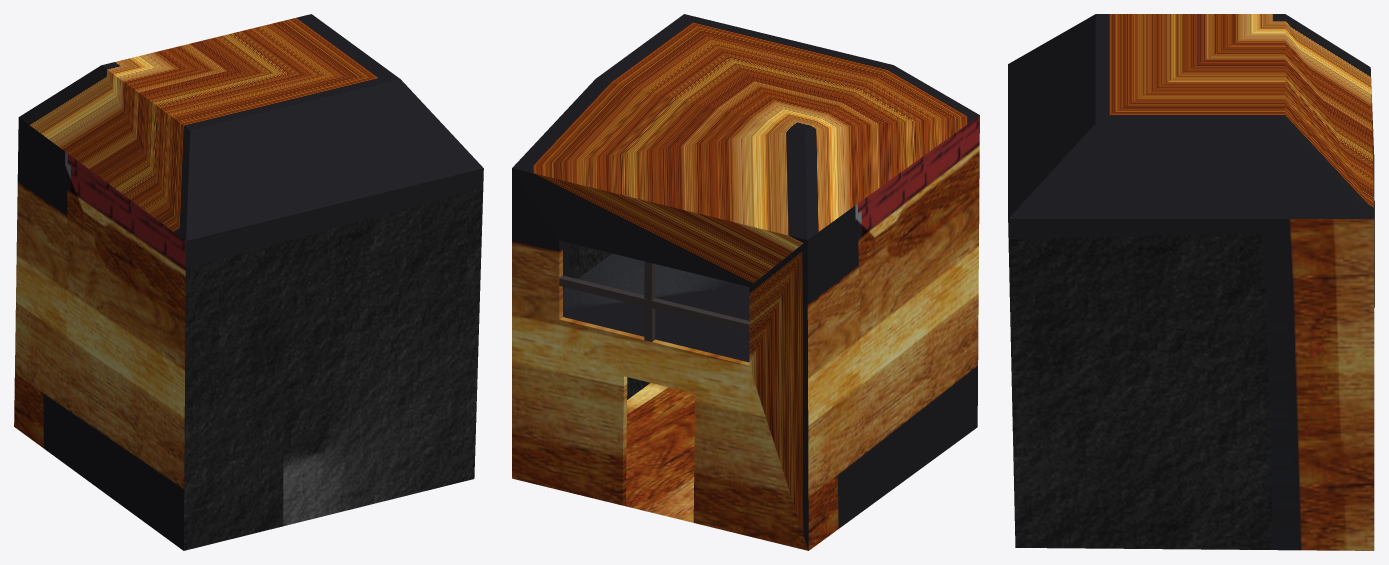
Rendered from model_intro_miskHouse1.fbx.
The picture shows the model from 3 angles, left to right: view 1: azimuth 30°, elevation 25°; view 2: azimuth 150°, elevation 25°; view 3: azimuth 270°, elevation 25°; orthographic projection. The views are drawn at different scales.
Visible parts, largest first — view 1: mesh_home_outside; view 2: mesh_home_outside; view 3: mesh_home_outside.
Boxes of the visible parts, left/top/right/bottom form: mesh_home_outside: left=14, top=14, right=483, bottom=550; mesh_home_outside: left=512, top=14, right=979, bottom=550; mesh_home_outside: left=1008, top=14, right=1374, bottom=550.
Size of the model in its own units: 498 by 609 by 499.
